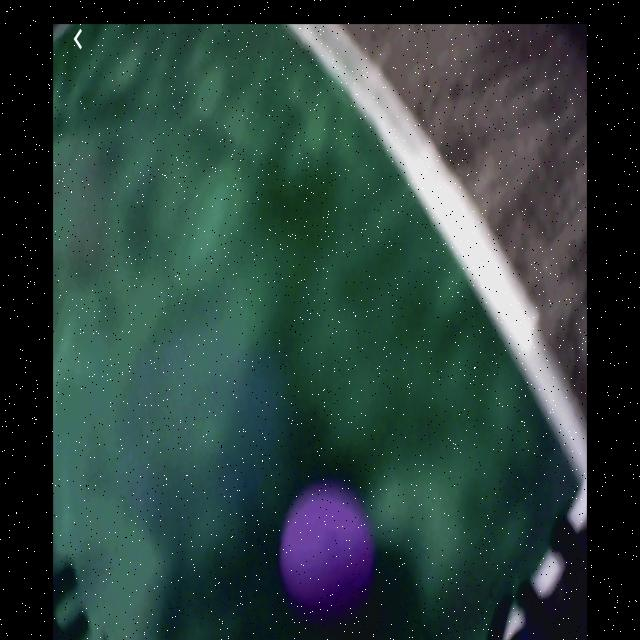ball: (279, 491, 377, 608)
